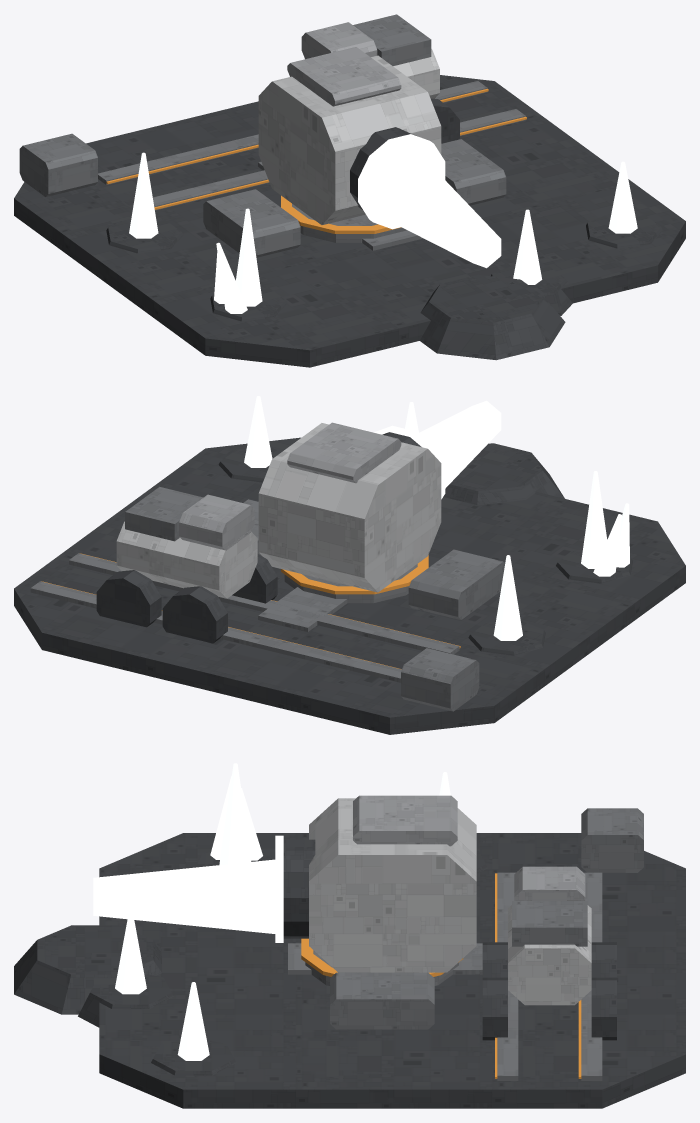
The model's file is rig_laser_lod2.glb.
The picture shows the model from 3 angles, top to bottom: view 1: azimuth 30°, elevation 25°; view 2: azimuth 150°, elevation 25°; view 3: azimuth 270°, elevation 25°; orthographic projection. The views are drawn at different scales.
Visible parts, largest first — view 1: rig_laser_base_body.002, rig_laser_emitter_body.002, rig_laser_beam_glow.002, rig_laser_base_glow.002, rig_laser_cart_body.002, rig_laser_emitter_glow.002, rig_laser_base_trim.002; view 2: rig_laser_base_body.002, rig_laser_emitter_body.002, rig_laser_cart_body.002, rig_laser_base_glow.002, rig_laser_beam_glow.002, rig_laser_base_trim.002, rig_laser_emitter_glow.002; view 3: rig_laser_base_body.002, rig_laser_emitter_body.002, rig_laser_cart_body.002, rig_laser_beam_glow.002, rig_laser_base_glow.002, rig_laser_base_trim.002, rig_laser_emitter_glow.002.
Part boxes in pixels (x1=…): rig_laser_base_body.002: x1=14, y1=75, x2=685, y2=367; rig_laser_emitter_body.002: x1=258, y1=47, x2=441, y2=224; rig_laser_beam_glow.002: x1=375, y1=156, x2=501, y2=268; rig_laser_base_glow.002: x1=129, y1=152, x2=637, y2=313; rig_laser_cart_body.002: x1=301, y1=14, x2=459, y2=143; rig_laser_emitter_glow.002: x1=358, y1=134, x2=445, y2=229; rig_laser_base_trim.002: x1=106, y1=88, x2=526, y2=233; rig_laser_base_body.002: x1=14, y1=437, x2=685, y2=734; rig_laser_emitter_body.002: x1=258, y1=422, x2=441, y2=592; rig_laser_cart_body.002: x1=96, y1=486, x2=277, y2=643; rig_laser_base_glow.002: x1=244, y1=396, x2=629, y2=640; rig_laser_beam_glow.002: x1=418, y1=400, x2=501, y2=488; rig_laser_base_trim.002: x1=41, y1=553, x2=460, y2=669; rig_laser_emitter_glow.002: x1=374, y1=425, x2=445, y2=499; rig_laser_base_body.002: x1=14, y1=808, x2=685, y2=1108; rig_laser_emitter_body.002: x1=283, y1=795, x2=476, y2=972; rig_laser_cart_body.002: x1=482, y1=866, x2=616, y2=1040; rig_laser_beam_glow.002: x1=93, y1=859, x2=275, y2=933; rig_laser_base_glow.002: x1=115, y1=763, x2=450, y2=1060; rig_laser_base_trim.002: x1=301, y1=873, x2=581, y2=1078; rig_laser_emitter_glow.002: x1=275, y1=835, x2=283, y2=942.
Bounding box in the file's own units: 2.9 × 0.88 × 3.21.
Materials: 3 (1 with a texture image).
